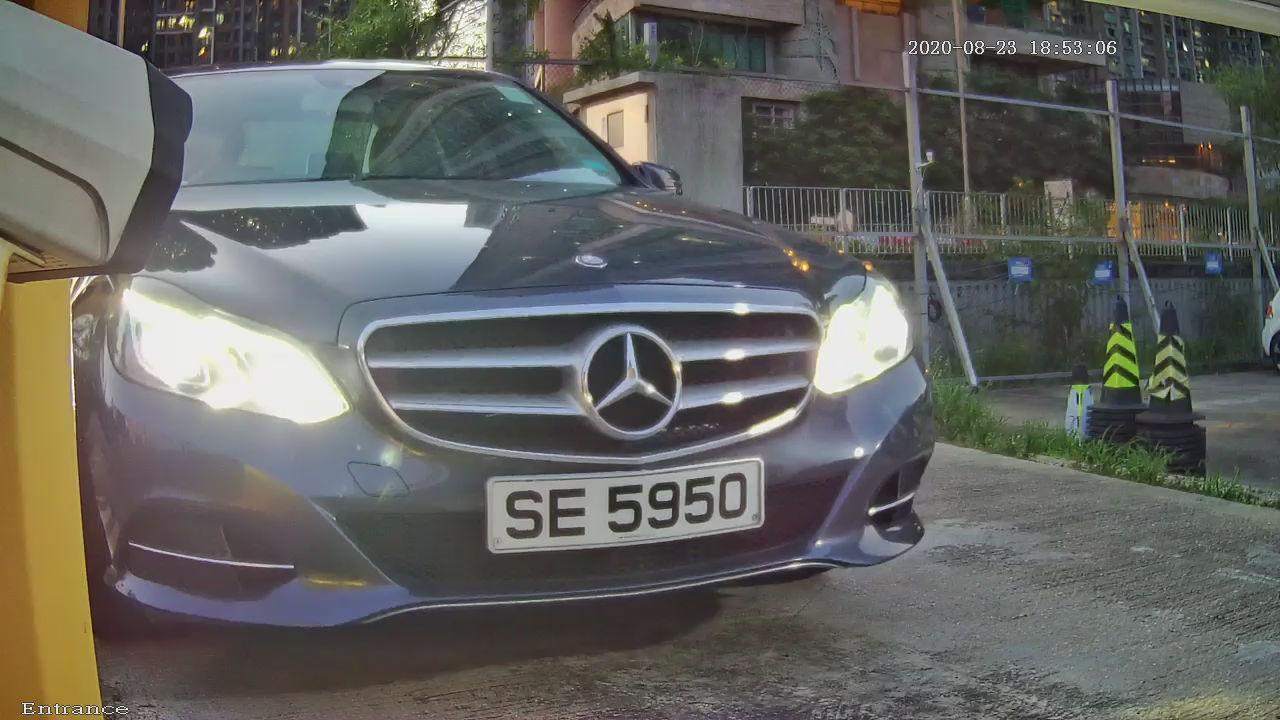Car: (1, 13, 995, 676)
License Plate: (432, 423, 816, 597)
